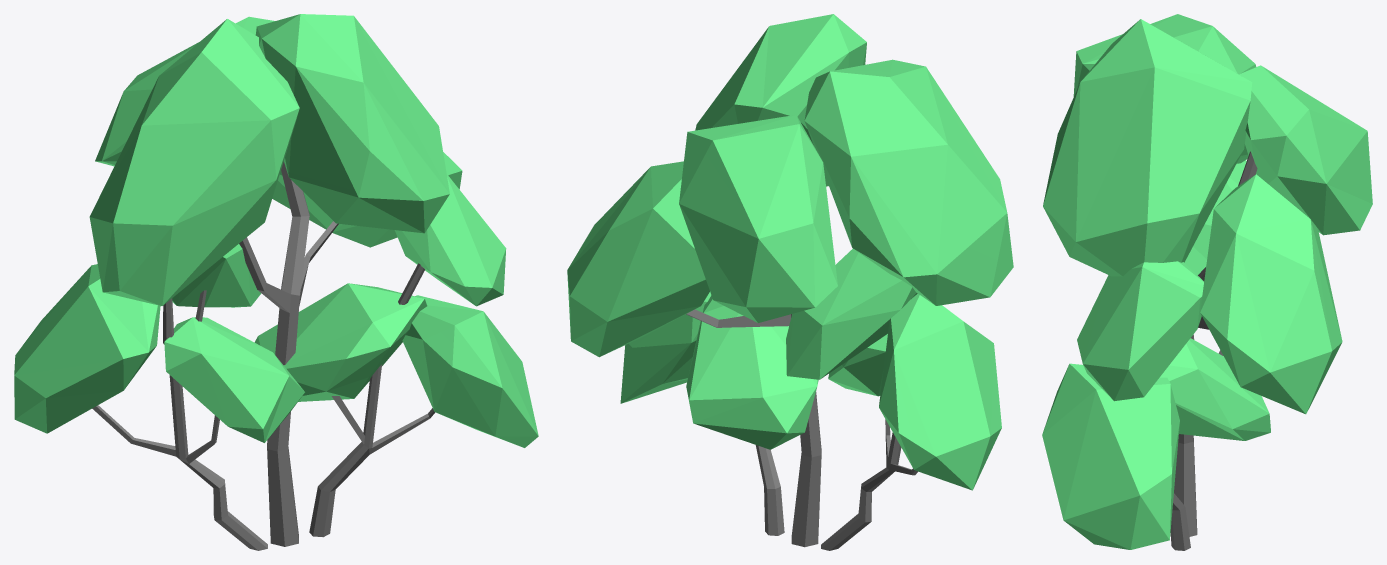
The model's file is SM_Bush_01.fbx.
The picture shows the model from 3 angles, left to right: view 1: azimuth 30°, elevation 25°; view 2: azimuth 150°, elevation 25°; view 3: azimuth 270°, elevation 25°; orthographic projection. The views are drawn at different scales.
Parts seen in each view (by area): view 1: Tree Type5 04 Model; view 2: Tree Type5 04 Model; view 3: Tree Type5 04 Model.
Boxes of the visible parts, x1,y1,x2,y2 form: Tree Type5 04 Model: [14, 14, 538, 550]; Tree Type5 04 Model: [567, 14, 1013, 550]; Tree Type5 04 Model: [1042, 14, 1372, 550].
Bounding box in the file's own units: 131 × 152 × 89.33.
